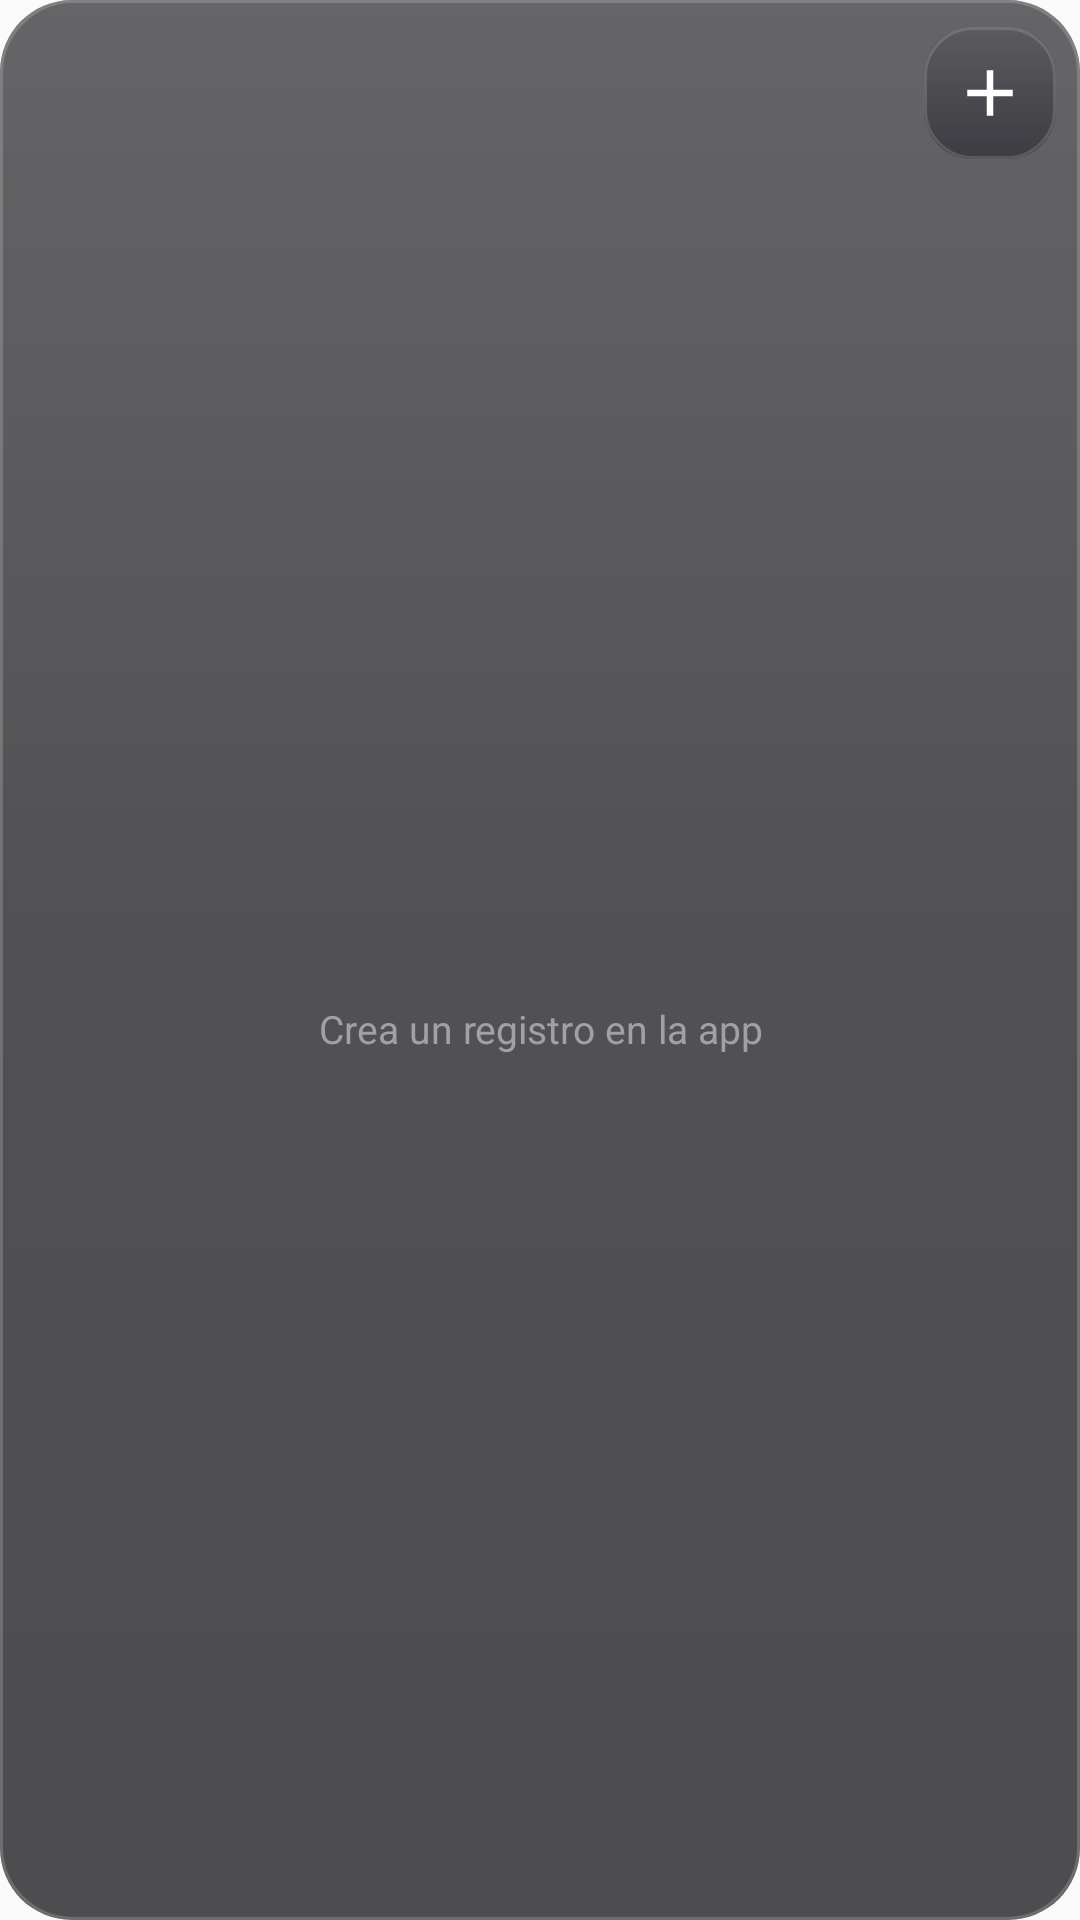

Locate icon controls on the screen. Image size 1080 × 1920, boxes as {"x1": x1, "y1": y1, "x2": x2, "y2": y2}.
Abrir registro: {"x1": 927, "y1": 70, "x2": 1053, "y2": 156}
